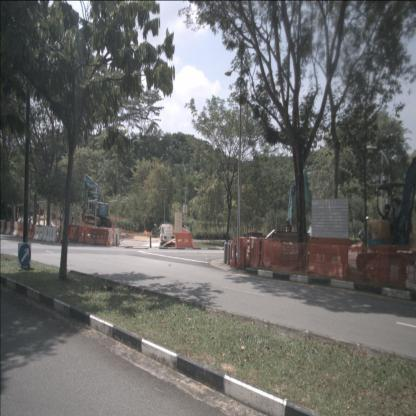movable_object-barrier: (308, 237, 352, 279), (262, 239, 283, 272), (230, 237, 249, 270), (248, 237, 261, 270), (90, 227, 110, 246), (42, 225, 58, 242), (78, 226, 95, 242), (174, 233, 192, 248), (6, 222, 23, 237), (23, 223, 35, 240), (182, 228, 192, 248), (32, 225, 44, 241), (67, 226, 78, 241), (0, 219, 6, 234), (114, 228, 119, 246)
movable_object-trafficcone: (111, 228, 115, 247), (107, 232, 111, 246)
